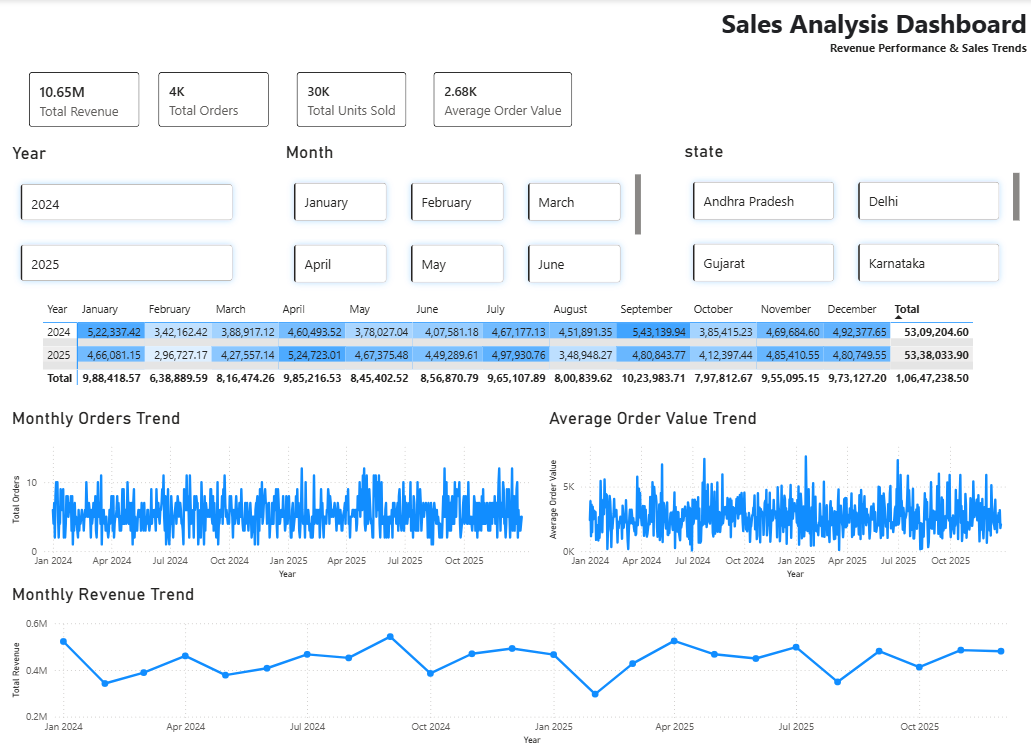

Layout of this report page (visuals, bound fields, positions):
{"tool":"powerbi","page":{"name":"Sales_A","canvas":[1280,940],"ordinal":1},"visuals":[{"type":"textbox","box":[0,0,1280,73.3],"z":0},{"type":"cardVisual","fields":{"Data":["_Measure.Total Revenue"]},"box":[20,73.8,171.1,103],"z":0,"group":"g1"},{"type":"group","id":"g1","title":"Group 1","box":[20,73.5,707.8,103.2],"z":1000},{"type":"cardVisual","fields":{"Data":["_Measure.Total Orders"]},"box":[181.2,73.8,171.2,102.5],"z":1000,"group":"g1"},{"type":"lineChart","title":"Monthly Revenue Trend","fields":{"Category":["novacart orders.order_date.Variation.Date Hierarchy.Year","novacart orders.order_date.Variation.Date Hierarchy.Month"],"Y":["_Measure.Total Revenue"]},"box":[10.2,724.5,1261.2,204.1],"z":2000},{"type":"lineChart","title":"Monthly Orders Trend","fields":{"Y":["_Measure.Total Orders"],"Category":["novacart orders.order_date.Variation.Date Hierarchy.Year","novacart orders.order_date.Variation.Date Hierarchy.Quarter","novacart orders.order_date.Variation.Date Hierarchy.Month","novacart orders.order_date.Variation.Date Hierarchy.Day"]},"box":[10.2,508.2,666.7,216.7],"z":3000},{"type":"lineChart","title":"Average Order Value Trend","fields":{"Y":["_Measure.Average Order Value"],"Category":["novacart orders.order_date.Variation.Date Hierarchy.Year","novacart orders.order_date.Variation.Date Hierarchy.Quarter","novacart orders.order_date.Variation.Date Hierarchy.Month","novacart orders.order_date.Variation.Date Hierarchy.Day"]},"box":[677.6,508.2,595,216.7],"z":4000},{"type":"cardVisual","fields":{"Data":["_Measure.Total Units Sold"]},"box":[351.9,73.5,170,103],"z":5000,"group":"g1"},{"type":"pivotTable","fields":{"Rows":["novacart orders.order_date.Variation.Date Hierarchy.Year"],"Columns":["novacart orders.order_date.Variation.Date Hierarchy.Month"],"Values":["_Measure.Total Revenue"]},"box":[49,369.4,1181.6,138.8],"z":5000},{"type":"advancedSlicerVisual","fields":{"Values":["novacart orders.order_date.Variation.Date Hierarchy.Year"]},"box":[10.2,173.5,295.9,193.9],"z":6000},{"type":"cardVisual","fields":{"Data":["_Measure.Average Order Value"]},"box":[521.5,73.5,206.2,102.5],"z":7000,"group":"g1"},{"type":"advancedSlicerVisual","fields":{"Values":["novacart orders.order_date.Variation.Date Hierarchy.Month"]},"box":[351,177.6,451,191.8],"z":7000},{"type":"advancedSlicerVisual","fields":{"Values":["novacart customers.state"]},"box":[844.9,175.5,426.5,191.8],"z":8000}]}

Visuals, with their boxes in screenshot pixels (x1, y1, x2, y2), scaled from the page's 1280x940 canvas onto the 1031x756 screenshot:
textbox: {"left": 0, "top": 0, "right": 1030, "bottom": 59}
cardVisual - _Measure.Total Revenue: {"left": 16, "top": 59, "right": 154, "bottom": 142}
"Group 1" group: {"left": 16, "top": 59, "right": 586, "bottom": 142}
cardVisual - _Measure.Total Orders: {"left": 146, "top": 59, "right": 284, "bottom": 142}
"Monthly Revenue Trend" lineChart: {"left": 8, "top": 583, "right": 1024, "bottom": 747}
"Monthly Orders Trend" lineChart: {"left": 8, "top": 409, "right": 545, "bottom": 583}
"Average Order Value Trend" lineChart: {"left": 546, "top": 409, "right": 1025, "bottom": 583}
cardVisual - _Measure.Total Units Sold: {"left": 283, "top": 59, "right": 420, "bottom": 142}
pivotTable - novacart orders.order_date.Variation.Date Hierarchy.Year x novacart orders.order_date.Variation.Date Hierarchy.Month: {"left": 39, "top": 297, "right": 991, "bottom": 409}
advancedSlicerVisual - novacart orders.order_date.Variation.Date Hierarchy.Year: {"left": 8, "top": 140, "right": 247, "bottom": 295}
cardVisual - _Measure.Average Order Value: {"left": 420, "top": 59, "right": 586, "bottom": 142}
advancedSlicerVisual - novacart orders.order_date.Variation.Date Hierarchy.Month: {"left": 283, "top": 143, "right": 646, "bottom": 297}
advancedSlicerVisual - novacart customers.state: {"left": 681, "top": 141, "right": 1024, "bottom": 295}
